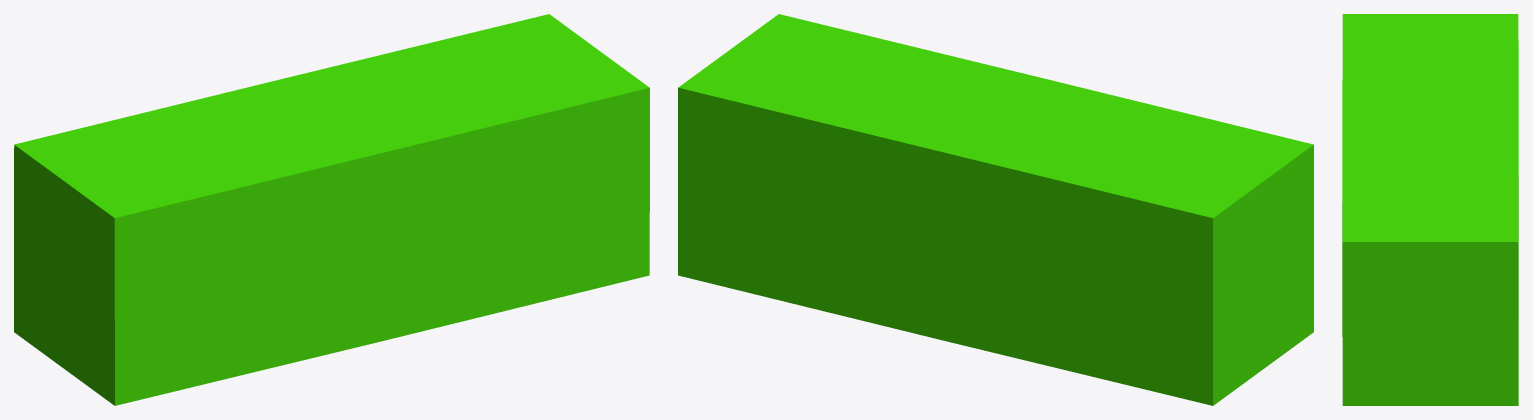
The model's file is Factory_Machine_07_Lod0.fbx.
3 renders of one model, left to right at view 1: azimuth 30°, elevation 25°; view 2: azimuth 150°, elevation 25°; view 3: azimuth 270°, elevation 25°, orthographic. The views are drawn at different scales.
Visible parts, largest first — view 1: Factory_Machine_07_Lod0; view 2: Factory_Machine_07_Lod0; view 3: Factory_Machine_07_Lod0.
Part boxes in pixels (<box>): Factory_Machine_07_Lod0: <box>14,14,649,405</box>; Factory_Machine_07_Lod0: <box>678,14,1313,405</box>; Factory_Machine_07_Lod0: <box>1342,14,1518,405</box>.
Bounding box in the file's own units: 601 × 202 × 196.
